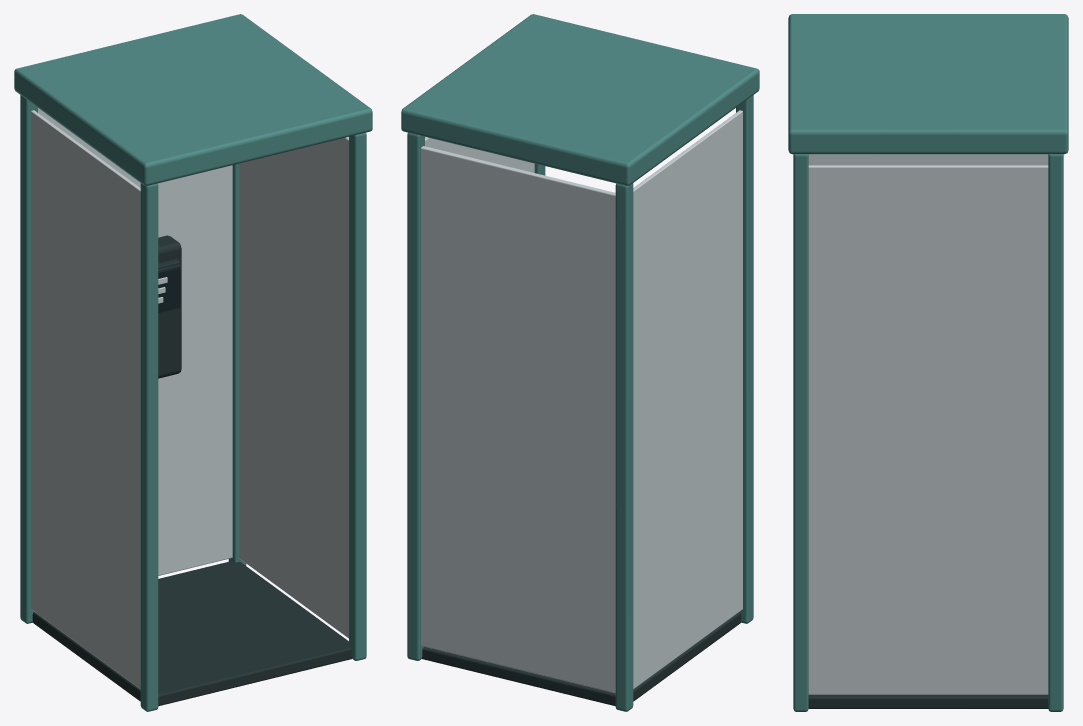
File: wp-cabine-telephonique.glb
3 views of the same model, side by side, from view 1: azimuth 30°, elevation 25°; view 2: azimuth 150°, elevation 25°; view 3: azimuth 270°, elevation 25° (orthographic). The views are drawn at different scales.
Visible parts, largest first — view 1: wp-cabine-telephonique; view 2: wp-cabine-telephonique; view 3: wp-cabine-telephonique.
Boxes of the visible parts, <box> form: wp-cabine-telephonique: <box>14,14,372,711</box>; wp-cabine-telephonique: <box>401,14,759,711</box>; wp-cabine-telephonique: <box>788,14,1068,711</box>.
Size of the model in its own units: 1 by 2.3 by 1.
